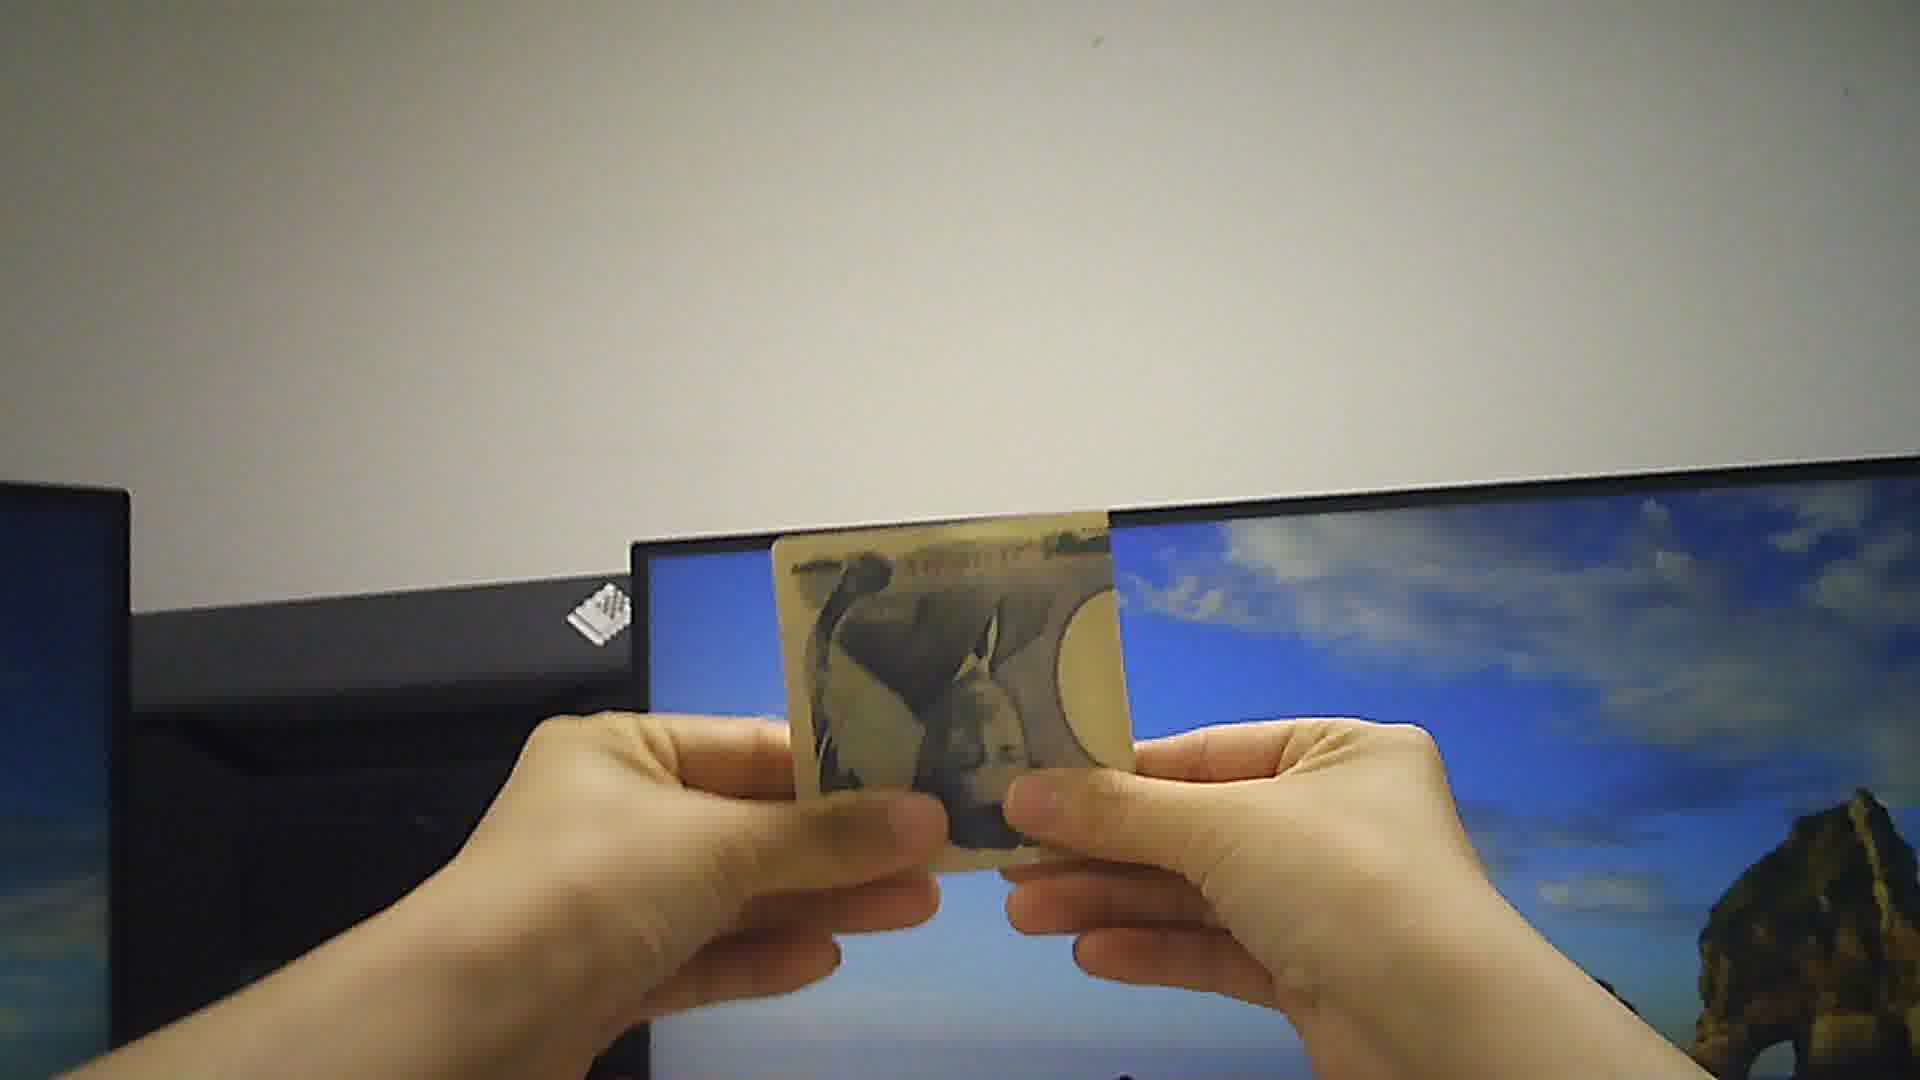1,000 Yen: (766, 520, 1151, 891)
